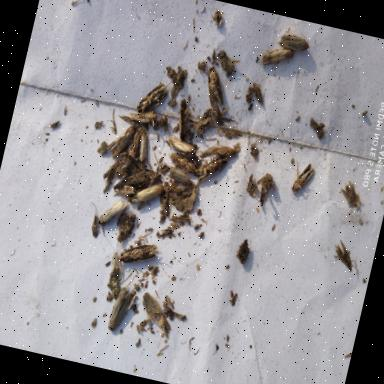pbw: (84, 192, 128, 240), (196, 59, 233, 111), (134, 72, 174, 120), (116, 236, 163, 274), (105, 284, 137, 338), (274, 23, 314, 63), (191, 148, 231, 188), (103, 122, 139, 164), (253, 40, 296, 74), (168, 94, 196, 145), (128, 176, 166, 210), (287, 158, 317, 200), (326, 237, 360, 274), (164, 148, 204, 178), (104, 262, 130, 304), (199, 138, 239, 164), (137, 290, 167, 324), (336, 178, 366, 212), (152, 182, 178, 221), (124, 124, 148, 166), (102, 148, 130, 184), (162, 132, 198, 160), (127, 101, 164, 128), (212, 47, 241, 80), (162, 164, 196, 192), (193, 102, 217, 138), (134, 130, 156, 166), (120, 168, 151, 193), (205, 102, 230, 129), (152, 310, 176, 338), (159, 302, 186, 322), (87, 210, 104, 241)
